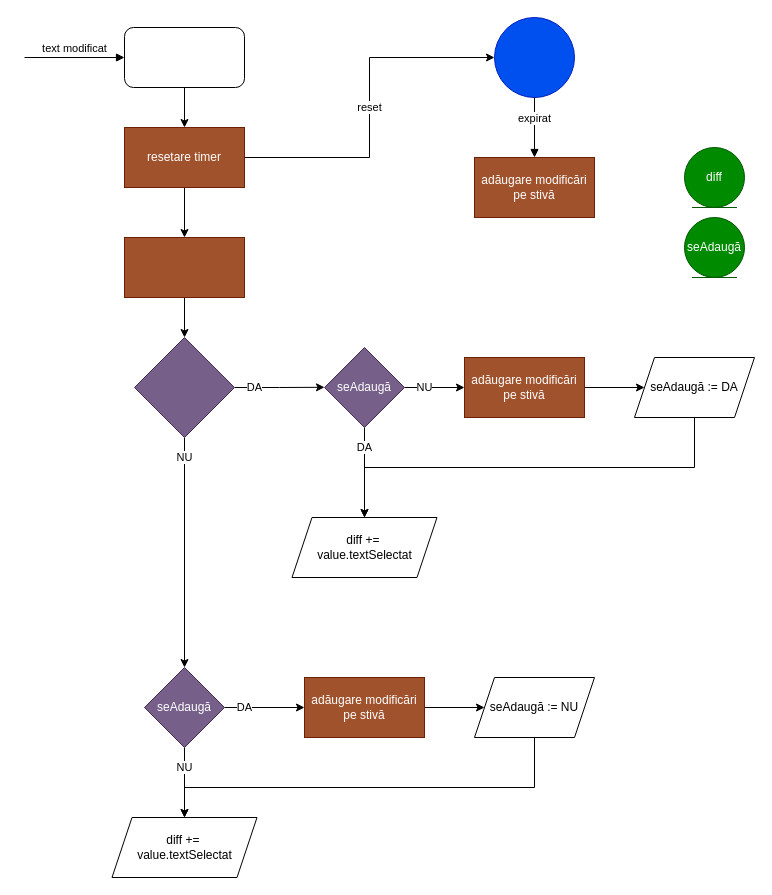
This 772x895 diagram has some shape labels left out. The box of each missing label's shape, as (x1, y1, x2, y2) in pixels:
actualizare coordonate (linie/coloană): (124, 236, 244, 298)
onTextChanged( value: TextFieldValue): (124, 26, 244, 88)
Timer: (494, 16, 574, 98)
value.index <= index: (134, 336, 234, 438)
